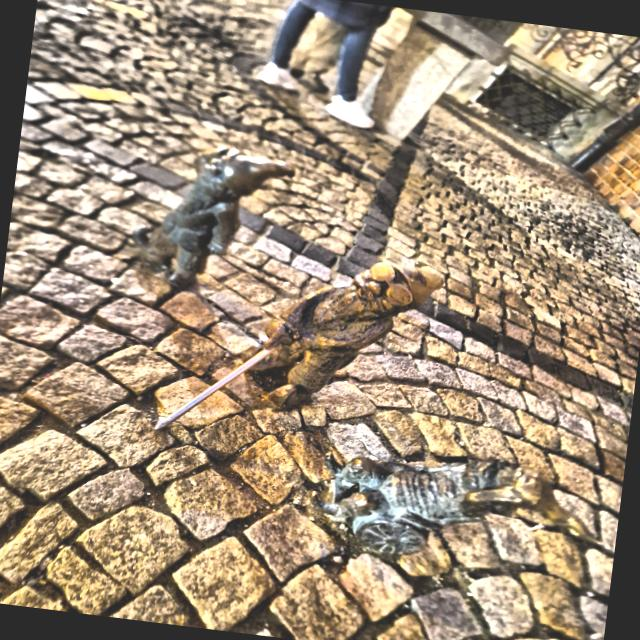Gluchak: (131, 147, 295, 288)
Slepak: (153, 262, 443, 430)
W-Skers: (312, 456, 607, 556)
